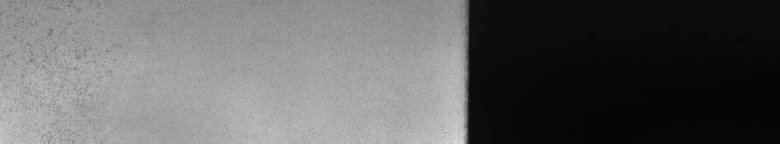ib: (7, 4, 92, 100)
